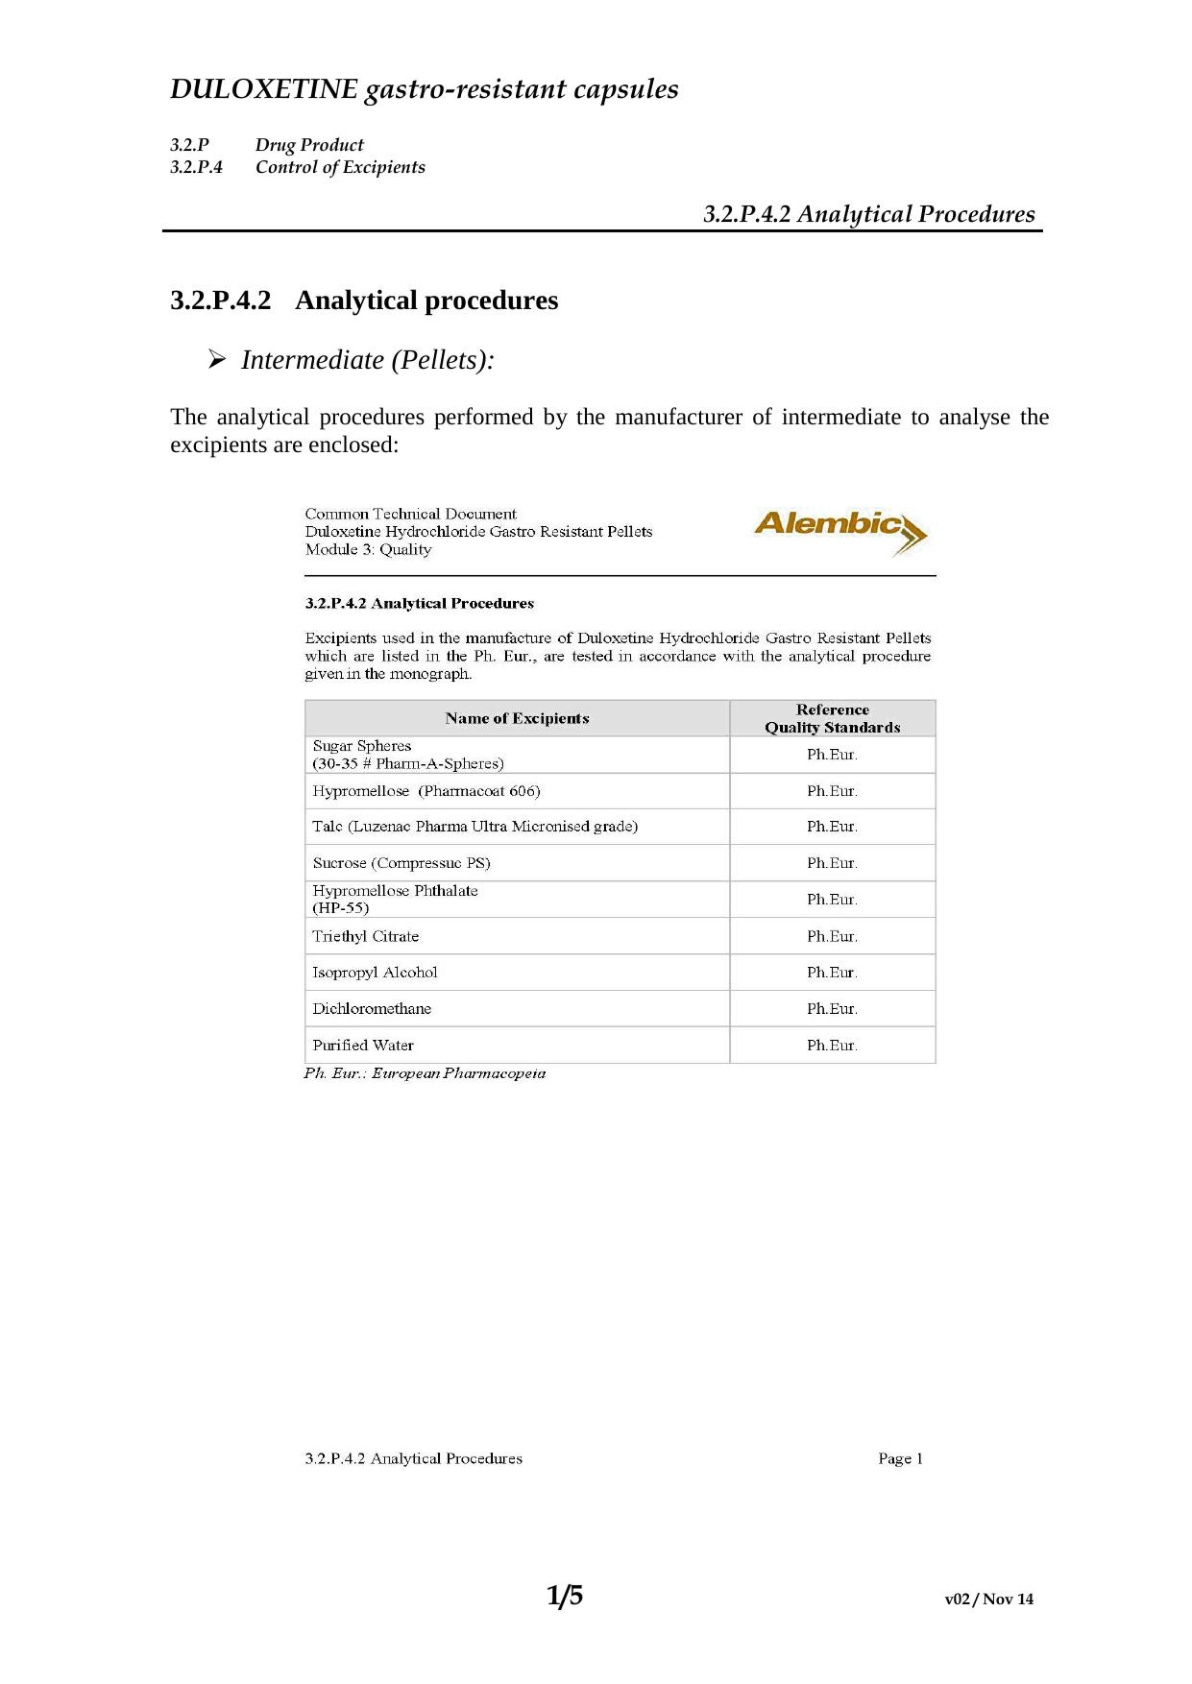full_lined: (304, 699, 938, 1065)
